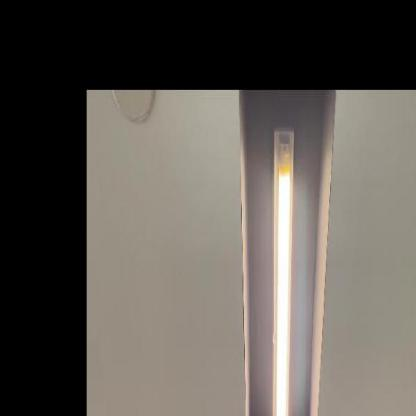light_on: (262, 118, 298, 415)
